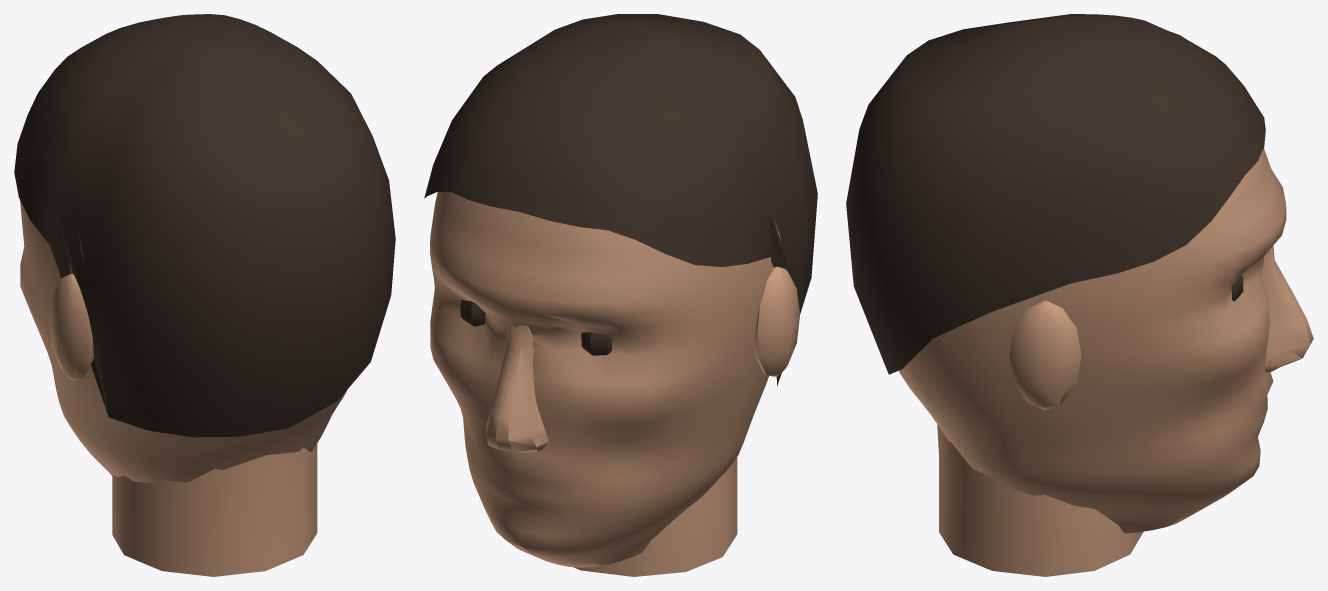
The model's file is head.glb.
3 renders of one model, left to right at view 1: azimuth 30°, elevation 25°; view 2: azimuth 150°, elevation 25°; view 3: azimuth 270°, elevation 25°, orthographic. The views are drawn at different scales.
Visible parts, largest first — view 1: OUT; view 2: OUT; view 3: OUT.
Part boxes in pixels (box(x1,y1,x2,y2)): OUT: box(14, 14, 395, 576); OUT: box(424, 14, 817, 576); OUT: box(846, 14, 1313, 576).
Bounding box in the file's own units: 0.1748 × 0.258 × 0.2195.
